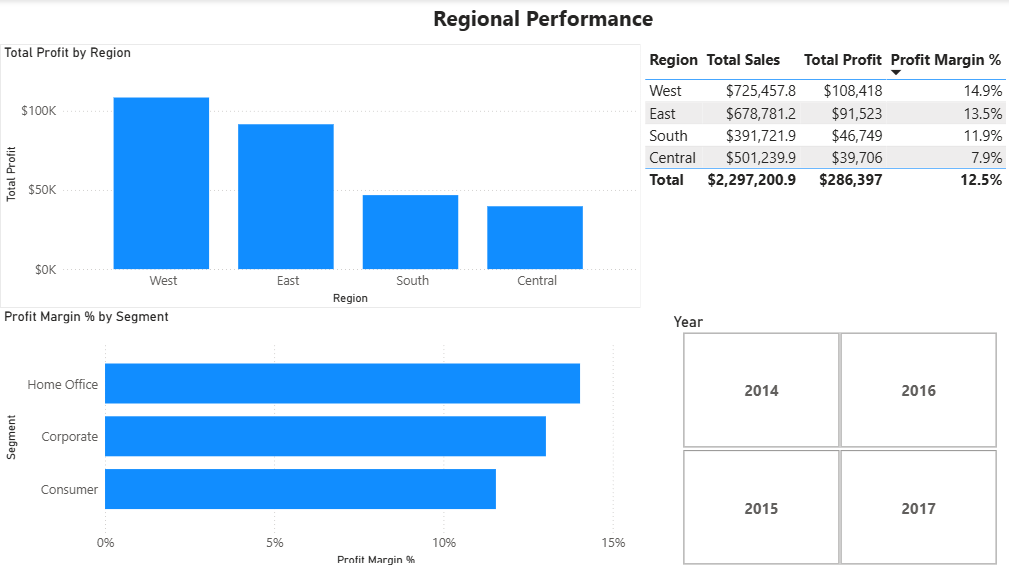

The dashboard page shown, as its layout file describes it:
{"tool":"powerbi","page":{"name":"Regions","canvas":[1280,720],"ordinal":3},"visuals":[{"type":"clusteredColumnChart","fields":{"Category":["orders.Region"],"Y":["orders.Total Profit"]},"box":[0,56.7,806.9,332.6],"z":0},{"type":"clusteredBarChart","fields":{"Category":["orders.Segment"],"Y":["orders.Profit Margin %"]},"box":[0,389.3,835.3,330.7],"z":1000},{"type":"tableEx","fields":{"Values":["orders.Region","orders.Total Sales","orders.Total Profit","orders.Profit Margin %"]},"box":[806.9,56.7,472.4,332.6],"z":2000},{"type":"slicer","fields":{"Values":["Date.Year"]},"box":[835.3,389.3,444.1,330.7],"z":3000},{"type":"textbox","box":[540.5,0,308,56.7],"z":3001}]}

Visuals, with their boxes in screenshot pixels (x1, y1, x2, y2), scaled from the page's 1280x720 canvas onto the 1009x565 screenshot:
clusteredColumnChart - orders.Region x orders.Total Profit: x1=0 y1=44 x2=636 y2=305
clusteredBarChart - orders.Segment x orders.Profit Margin %: x1=0 y1=305 x2=658 y2=564
tableEx - orders.Region x orders.Total Sales: x1=636 y1=44 x2=1008 y2=305
slicer - Date.Year: x1=658 y1=305 x2=1008 y2=564
textbox: x1=426 y1=0 x2=669 y2=44
